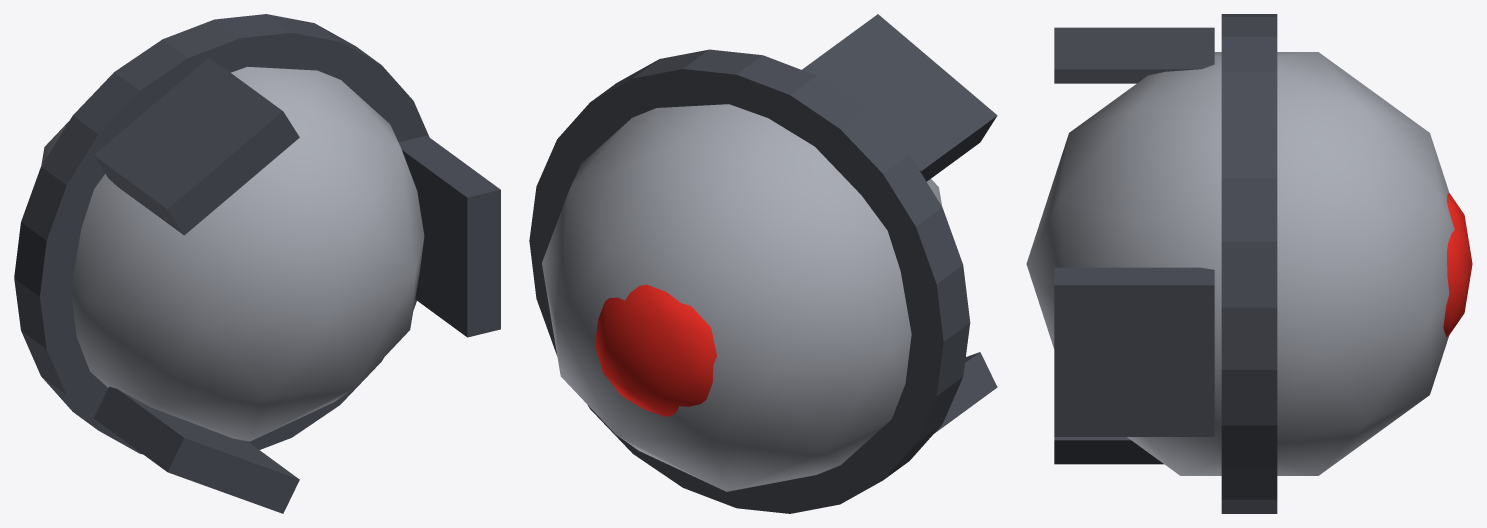
File: serpent_probe.glb
3 renders of one model, left to right at view 1: azimuth 30°, elevation 25°; view 2: azimuth 150°, elevation 25°; view 3: azimuth 270°, elevation 25°, orthographic. The views are drawn at different scales.
Visible parts, largest first — view 1: serpent_probe; view 2: serpent_probe; view 3: serpent_probe.
Part boxes in pixels (left/top/right/bottom): serpent_probe: left=14, top=14, right=500, bottom=513; serpent_probe: left=529, top=14, right=997, bottom=513; serpent_probe: left=1026, top=14, right=1472, bottom=513.
Bounding box in the file's own units: 0.72 × 0.72 × 0.64.
